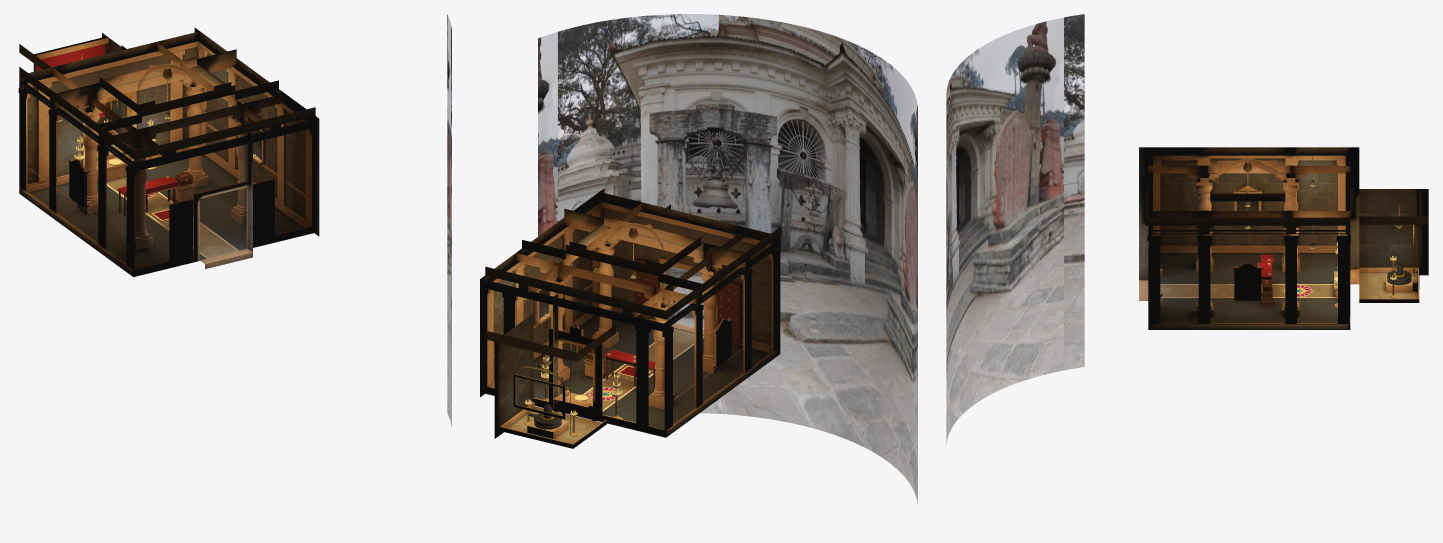
File: sanctum.glb
3 views of the same model, side by side, from view 1: azimuth 30°, elevation 25°; view 2: azimuth 150°, elevation 25°; view 3: azimuth 270°, elevation 25° (orthographic). The views are drawn at different scales.
Visible parts, largest first — view 1: sanctum; view 2: sanctum; view 3: sanctum.
Part boxes in pixels (x1,y1,x2,y2): sanctum: (18, 14, 451, 427); sanctum: (480, 14, 917, 505); sanctum: (946, 14, 1428, 445).
Size of the model in its own units: 13.29 by 13.5 by 16.72.
Materials: 28 (11 with a texture image).
